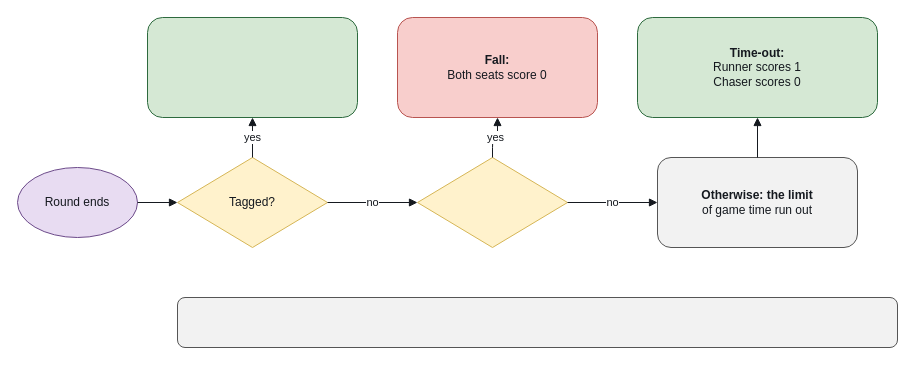
The diagram is 915 pixels wide and 365 high, and some of its shapes have lost their labels. Here are the shapes that lost their labels. From the top down, the centre of each, then its label:
At [252,67]: "Tag at time t: Chaser 1 − t/T Runner t/T".
At [492,202]: "Fell?".
At [537,322]: "Scores are for the round just ended. Each seat's score is between 0 and 1.".
